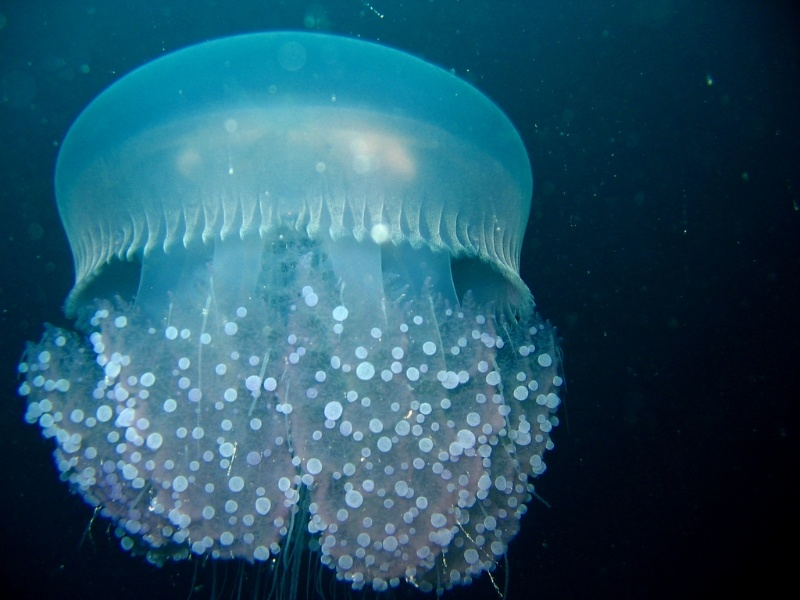Jellyfish: (16, 30, 562, 599)
